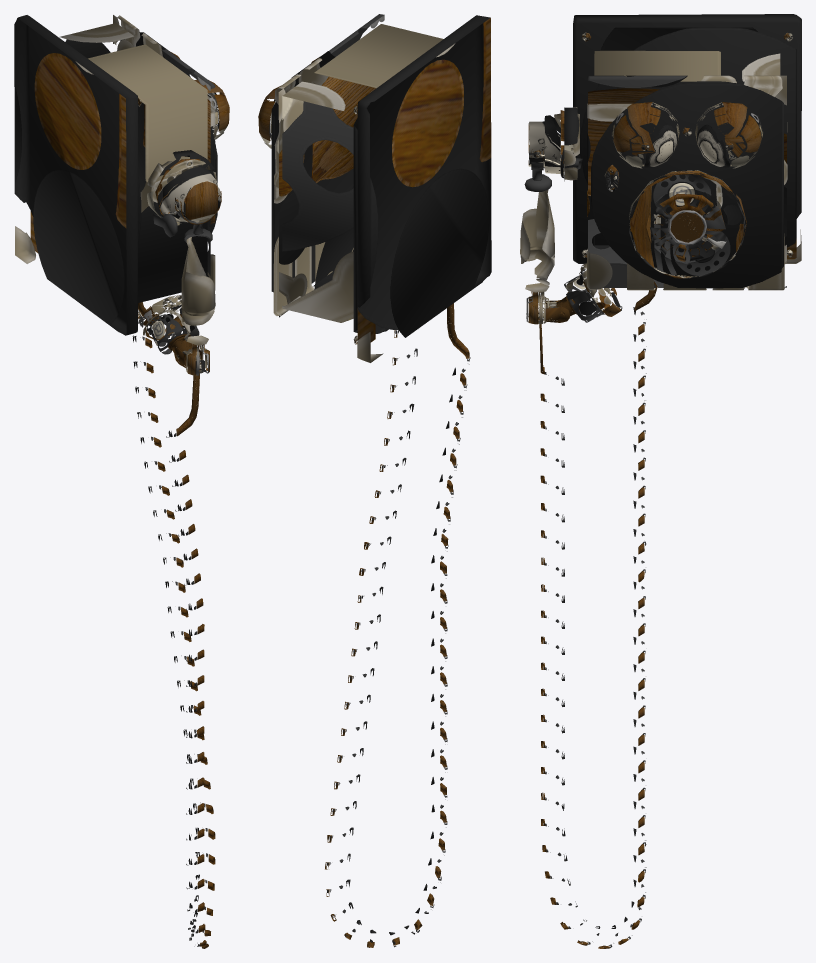
File: phone.fbx
3 views of the same model, side by side, from view 1: azimuth 30°, elevation 25°; view 2: azimuth 150°, elevation 25°; view 3: azimuth 270°, elevation 25° (orthographic). The views are drawn at different scales.
Visible parts, largest first — view 1: phone; view 2: phone; view 3: phone.
Boxes of the visible parts, box(x1,y1,x2,y2) form: phone: box(14, 15, 229, 948); phone: box(258, 14, 491, 947); phone: box(520, 14, 801, 948).
Size of the model in its own units: 0.1507 by 0.95 by 0.2728.
